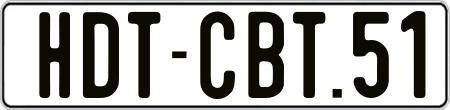1: (398, 11, 427, 102)
5: (351, 11, 389, 103)
B: (246, 12, 282, 103)
C: (198, 9, 236, 99)
D: (80, 9, 122, 95)
H: (37, 11, 74, 98)
T: (125, 10, 159, 98), (293, 11, 327, 99)
